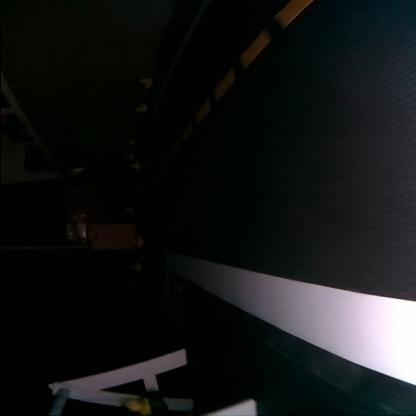Duckie: (122, 397, 149, 415), (138, 76, 151, 87), (130, 238, 142, 247), (133, 103, 145, 111), (130, 262, 140, 270), (124, 138, 132, 145), (130, 161, 138, 167), (124, 153, 132, 159), (124, 207, 132, 213)
QR code: (170, 282, 182, 322)
